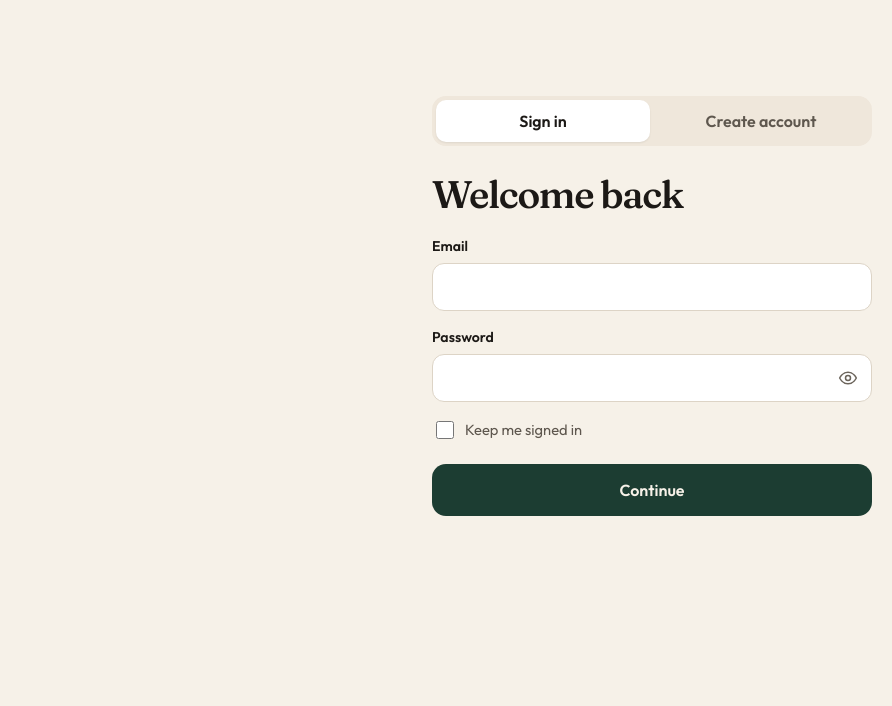
Test: US 13 Log in › AC 13.2: rejects a wrong password without saying which field was wrong
Type "ada@example.com" into the field labelled "Email" at (652, 287), box [432,263,872,311]
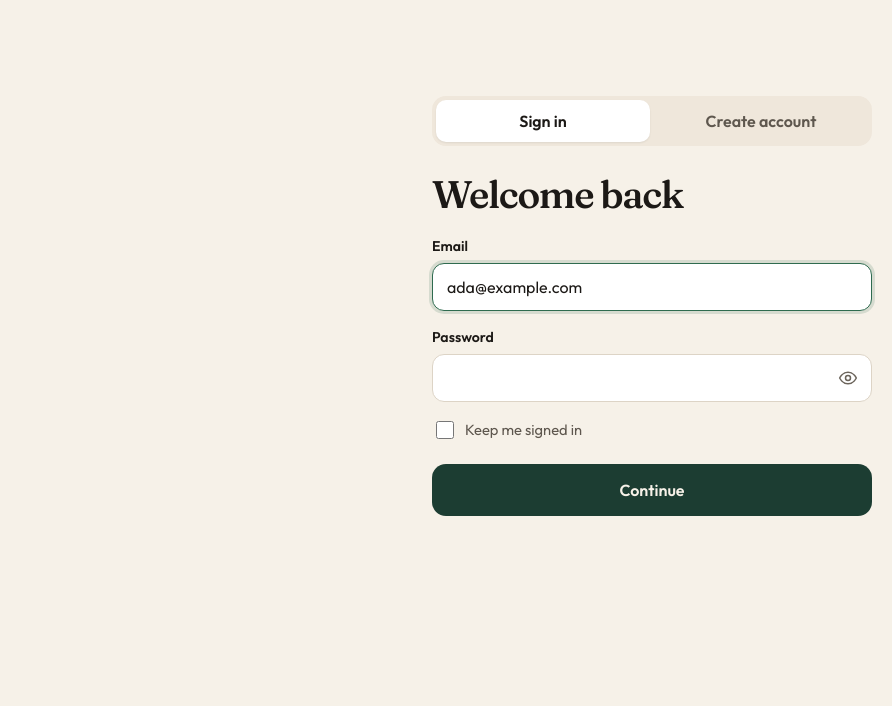
Type "wrong-password" into the password field labelled "Password" at (652, 378), box [432,354,872,402]
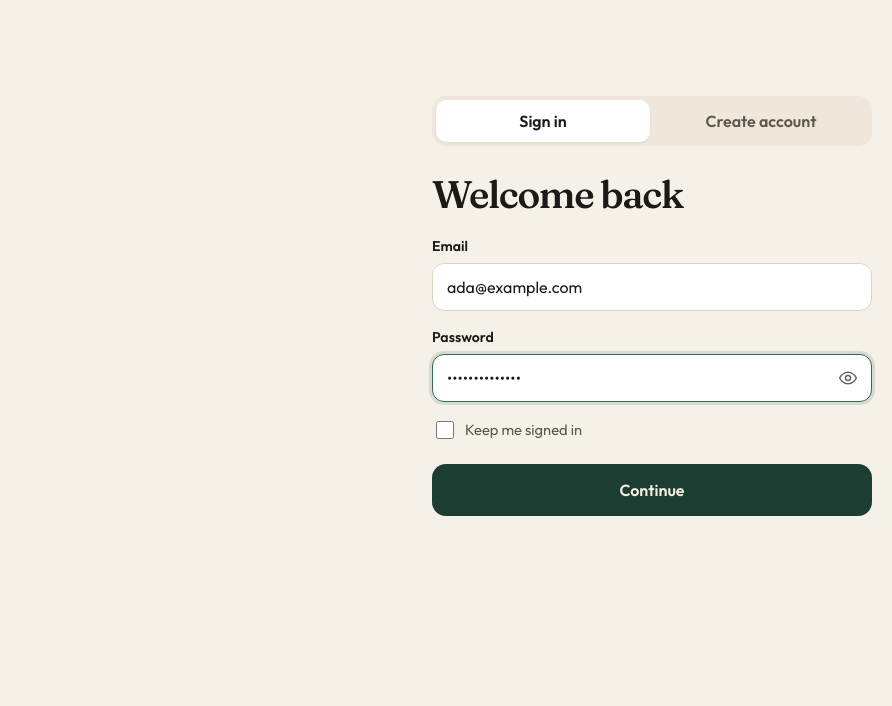
Click the button "Continue" at (652, 490), box [432,464,872,516]
(page scrolled)
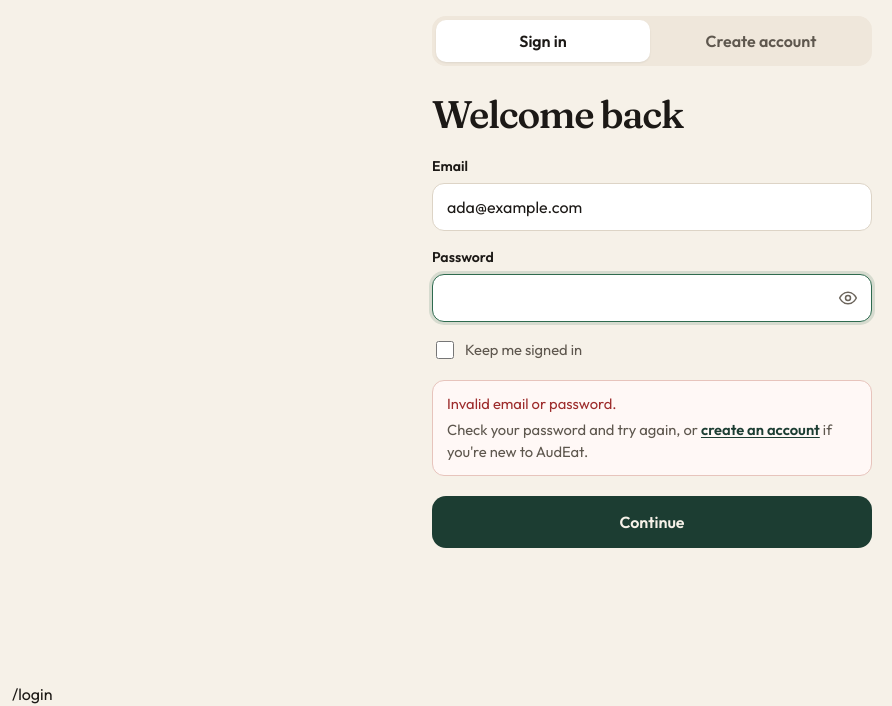
expect the text with test id "location" reads "/login": met, box [12,684,52,704]
expect the message shows "Invalid email or password.": met, box [447,394,616,413]
expect the message shows "Check your password and try again, or create an account if you're new to AudEat.": met, box [432,380,872,476]
